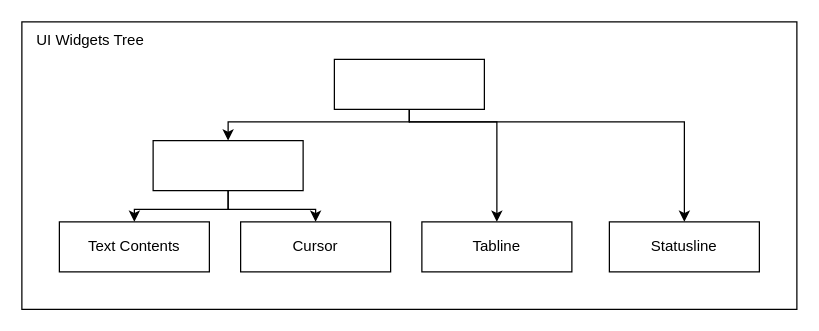
The diagram is 819 pixels wide and 331 high, and some of its shapes have lost their labels. The centre of each missing label's shape, as x and y in pixels:
Root Container: point 408,83
Window Container: point 227,165
